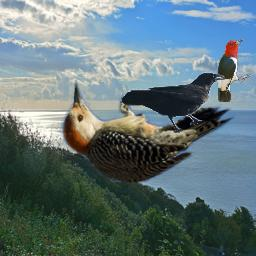Crow: (121, 72, 225, 133)
Woodpecker: (48, 76, 242, 186), (217, 39, 251, 102)
